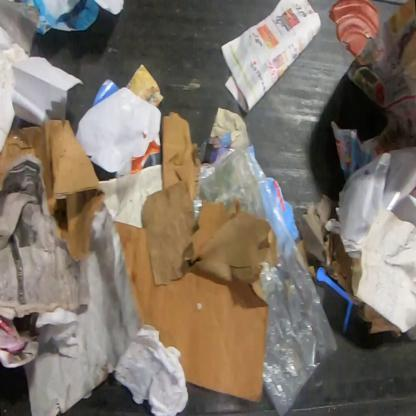cardboard: (113, 221, 268, 404), (0, 119, 106, 263), (321, 232, 403, 338), (161, 111, 201, 201)
rigid_plastic: (327, 0, 380, 58)
soft_plastic: (191, 144, 340, 415)
